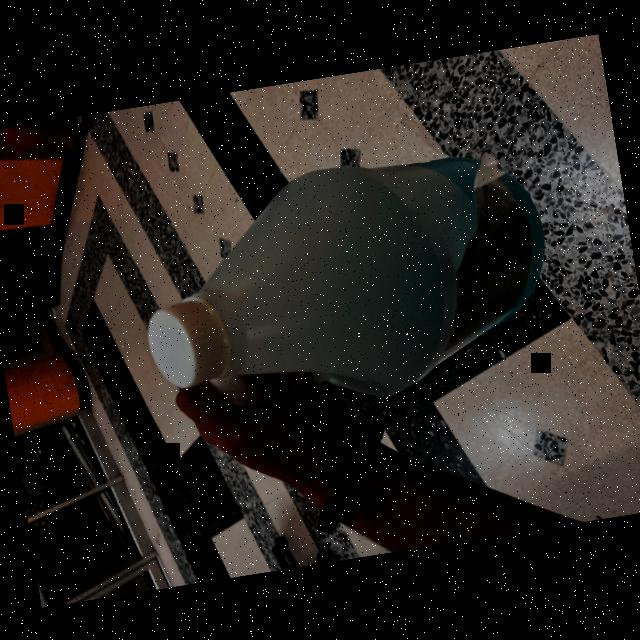chemical_plastic_gallon: (117, 133, 567, 437)
